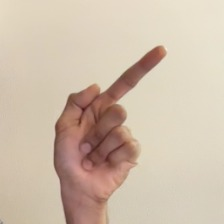G: (46, 32, 178, 212)
